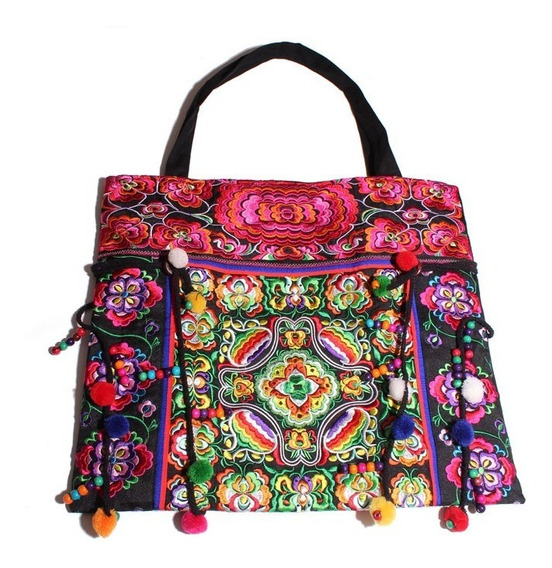cartera: (67, 38, 527, 515)
